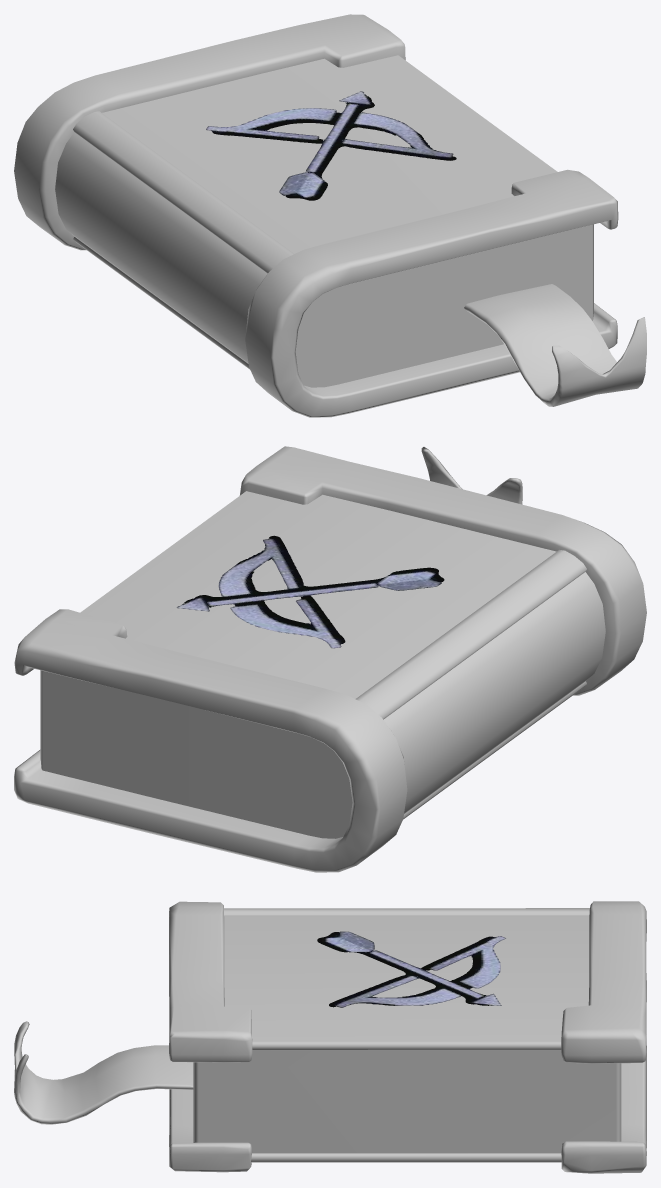
The picture shows the model from 3 angles, top to bottom: view 1: azimuth 30°, elevation 25°; view 2: azimuth 150°, elevation 25°; view 3: azimuth 270°, elevation 25°; orthographic projection. The views are drawn at different scales.
Visible parts, largest first — view 1: SM_Skill_Tome_Ranged_LOD0; view 2: SM_Skill_Tome_Ranged_LOD0; view 3: SM_Skill_Tome_Ranged_LOD0.
Boxes of the visible parts, x1,y1,x2,y2 form: SM_Skill_Tome_Ranged_LOD0: (14, 14, 646, 417); SM_Skill_Tome_Ranged_LOD0: (14, 446, 646, 872); SM_Skill_Tome_Ranged_LOD0: (14, 901, 646, 1173).
Bounding box in the file's own units: 0.2949 × 0.1242 × 0.5018.
